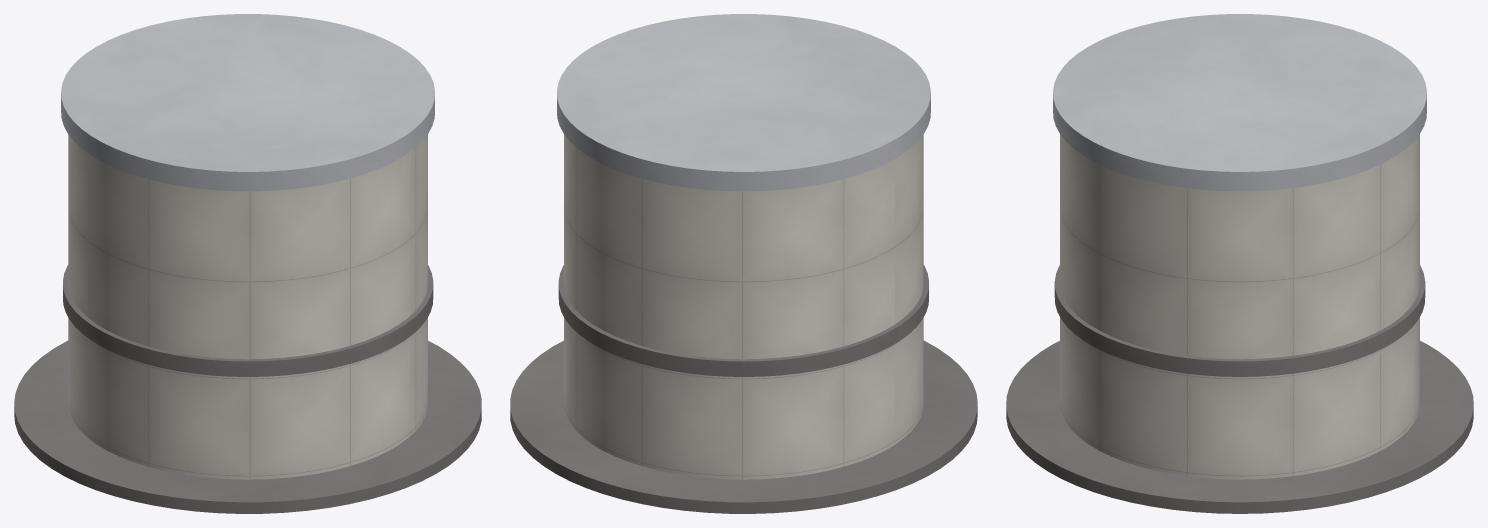
The model's file is stage08_main_chute_m.glb.
3 views of the same model, side by side, from view 1: azimuth 30°, elevation 25°; view 2: azimuth 150°, elevation 25°; view 3: azimuth 270°, elevation 25° (orthographic).
Parts seen in each view (by area): view 1: canister, lid, base_flange, band; view 2: canister, lid, base_flange, band; view 3: canister, lid, base_flange, band.
Part boxes in pixels (x1=…): canister: x1=68, y1=134, x2=427, y2=479; lid: x1=61, y1=14, x2=434, y2=191; base_flange: x1=14, y1=340, x2=481, y2=513; band: x1=63, y1=265, x2=433, y2=376; canister: x1=564, y1=134, x2=923, y2=479; lid: x1=557, y1=14, x2=930, y2=191; base_flange: x1=510, y1=340, x2=977, y2=513; band: x1=558, y1=265, x2=928, y2=376; canister: x1=1060, y1=134, x2=1419, y2=479; lid: x1=1053, y1=14, x2=1426, y2=191; base_flange: x1=1006, y1=341, x2=1473, y2=513; band: x1=1054, y1=265, x2=1425, y2=376.
Bounding box in the file's own units: 1.09 × 0.83 × 1.09.
Materials: 3 (3 with a texture image).
